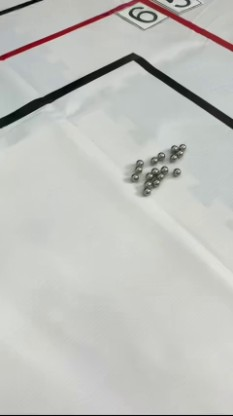ironball: (148, 166, 163, 176), (171, 166, 182, 178), (149, 153, 160, 164), (128, 172, 139, 183), (143, 181, 151, 196), (148, 176, 160, 186), (167, 152, 177, 162), (158, 150, 167, 161), (133, 155, 143, 164), (159, 162, 167, 172), (133, 164, 143, 172), (144, 172, 152, 181), (178, 141, 186, 149), (176, 149, 183, 157), (171, 144, 177, 152)
